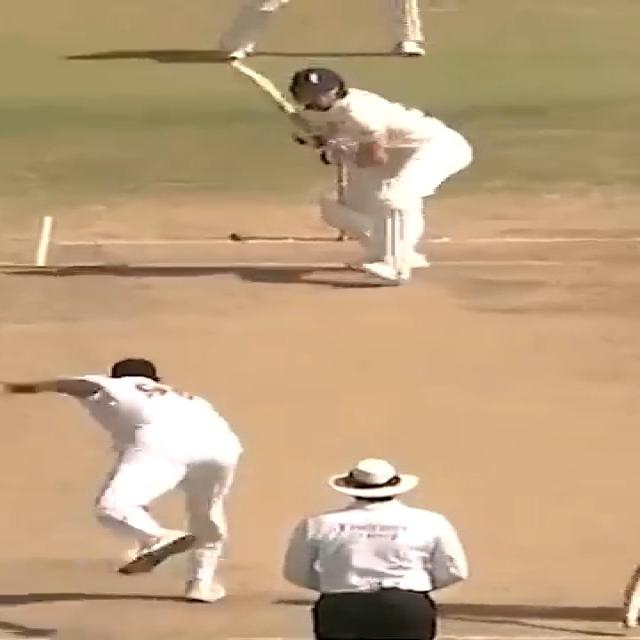Cricket ball: (224, 230, 252, 243)
